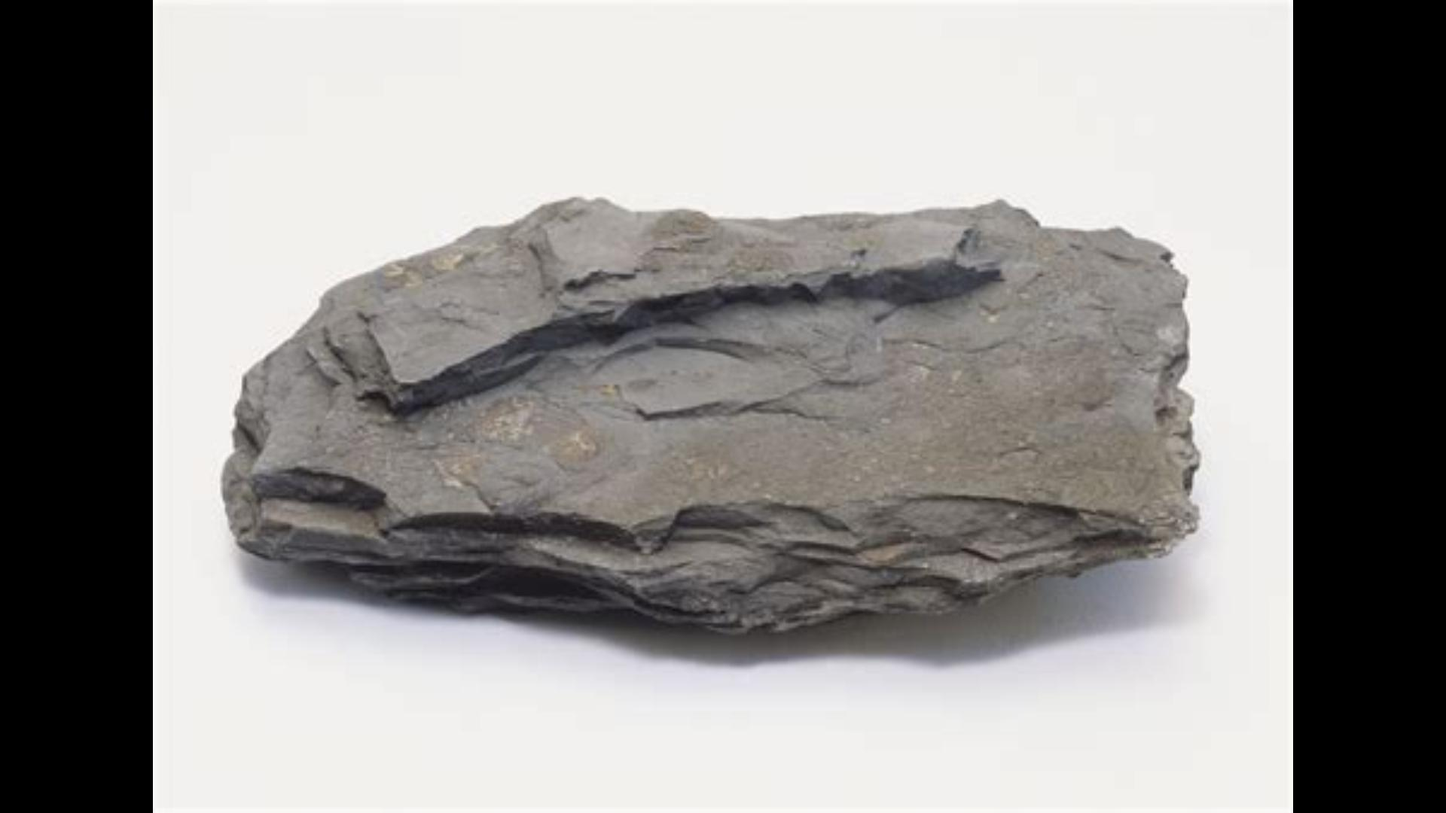rock: (225, 207, 1192, 625)
